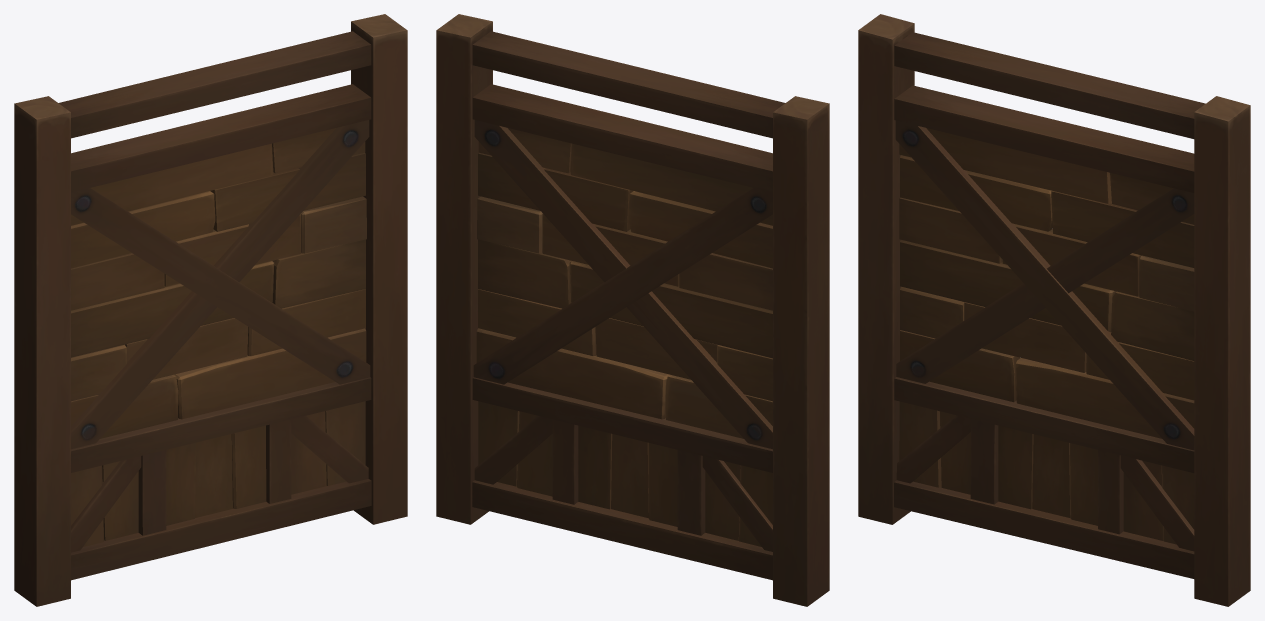
The model's file is Wall02.FBX.
3 views of the same model, side by side, from view 1: azimuth 30°, elevation 25°; view 2: azimuth 150°, elevation 25°; view 3: azimuth 330°, elevation 25° (orthographic).
Visible parts, largest first — view 1: Box038; view 2: Box038; view 3: Box038.
Part boxes in pixels (x1,y1,x2,y2): Box038: [14, 14, 407, 606]; Box038: [436, 14, 829, 606]; Box038: [858, 14, 1250, 606].
Bounding box in the file's own units: 2 × 2.51 × 0.2079.
Materials: 1 (1 with a texture image).
